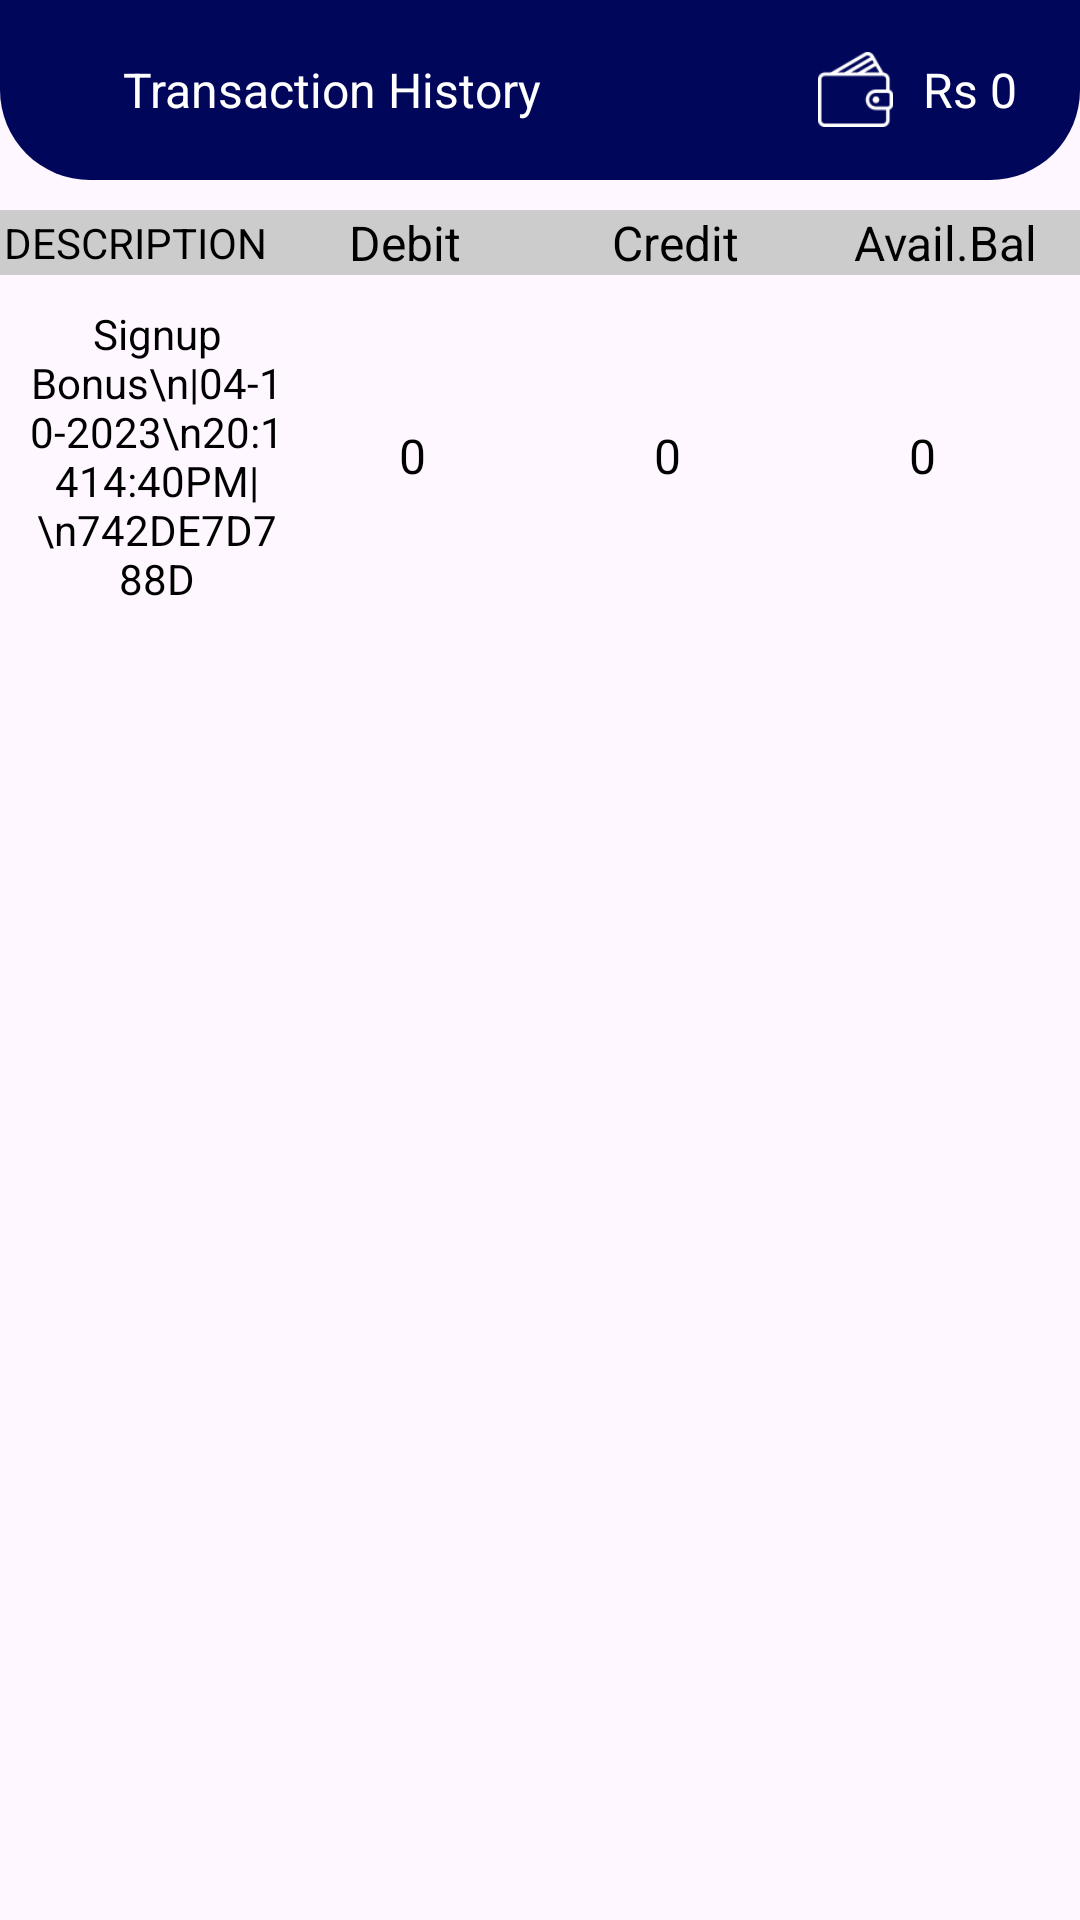

Icons on this 1080x1920 Android screen, each with its box as (x1, y1, x2, y2):
wallet: (818, 52, 893, 127)
